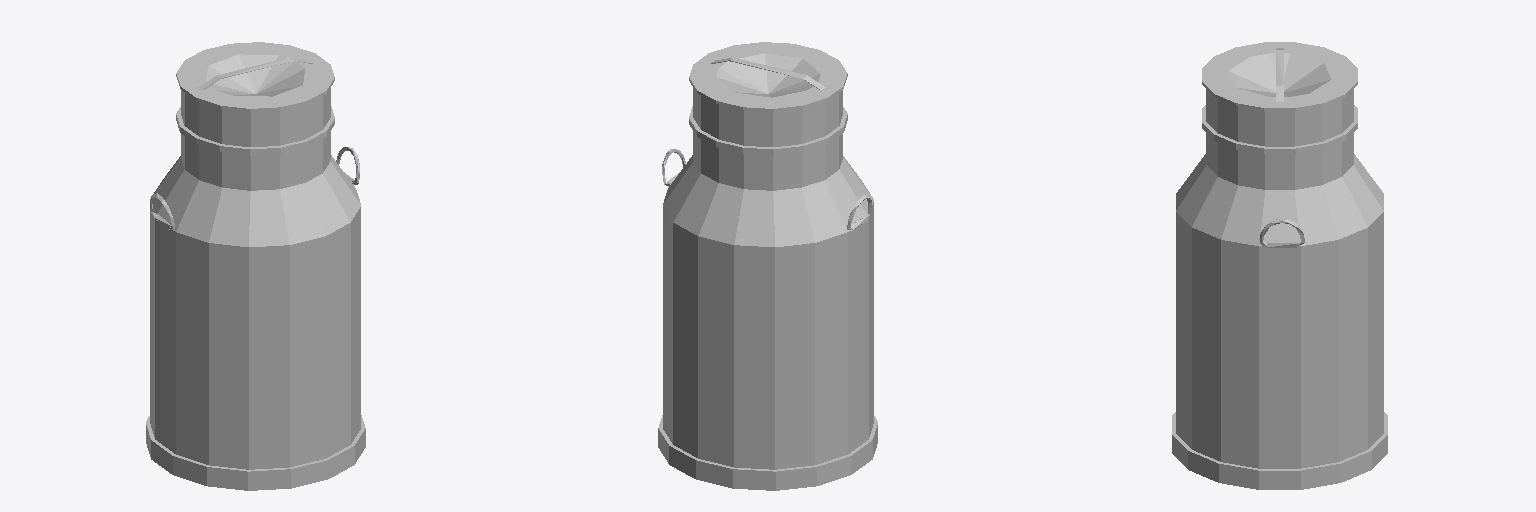
The model's file is Milk Churn_LOD1.obj.
3 views of the same model, side by side, from view 1: azimuth 30°, elevation 25°; view 2: azimuth 150°, elevation 25°; view 3: azimuth 270°, elevation 25° (orthographic).
Visible parts, largest first — view 1: Milk_Churn; view 2: Milk_Churn; view 3: Milk_Churn.
Part boxes in pixels (x1,y1,x2,y2): Milk_Churn: (146, 42, 365, 490); Milk_Churn: (658, 42, 877, 490); Milk_Churn: (1172, 42, 1387, 489).
Bounding box in the file's own units: 0.5133 × 0.944 × 0.491.